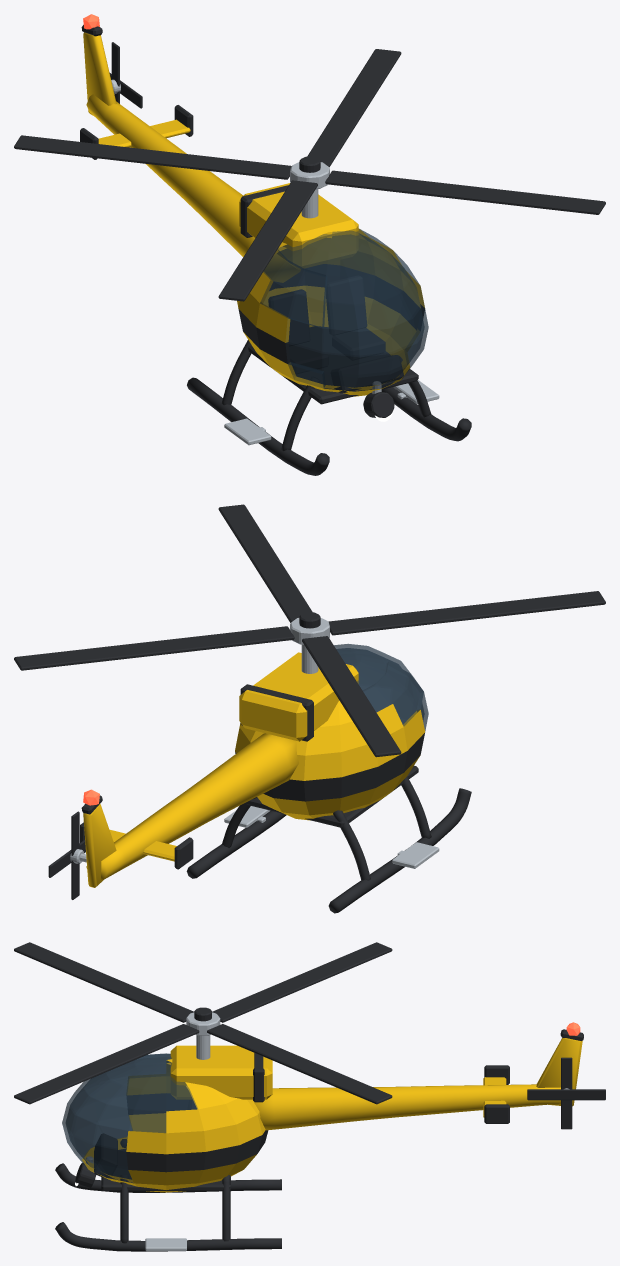
Rendered from yellow-rescue-helicopter.glb.
3 renders of one model, top to bottom at view 1: azimuth 30°, elevation 25°; view 2: azimuth 150°, elevation 25°; view 3: azimuth 270°, elevation 25°, orthographic. The views are drawn at different scales.
Visible parts, largest first — view 1: Fuselage, Door, TailBoom, EngineHousing, MainBlade_3, MainBlade_1, MainBlade_2, MainBlade_0, CabinFloor, Seat_Copilot_Back, Skid_L, Console (+11 smaller); view 2: Fuselage, TailBoom, EngineHousing, Door, MainBlade_0, MainBlade_2, MainBlade_1, MainBlade_3, Skid_L, TailFin, Skid_R, CabinFloor (+7 smaller); view 3: Fuselage, TailBoom, EngineHousing, Door, MainBlade_0, MainBlade_3, MainBlade_1, MainBlade_2, Skid_R, TailFin, Skid_L, CabinFloor (+9 smaller).
Part boxes in pixels (<box>): Fuselage: <box>237,228,428,396</box>; Door: <box>238,249,326,388</box>; TailBoom: <box>86,94,300,282</box>; EngineHousing: <box>239,183,358,269</box>; MainBlade_3: <box>325,170,605,214</box>; MainBlade_1: <box>14,135,291,179</box>; MainBlade_2: <box>218,180,317,301</box>; MainBlade_0: <box>307,49,401,167</box>; CabinFloor: <box>248,326,418,404</box>; Seat_Copilot_Back: <box>326,275,366,335</box>; Skid_L: <box>187,377,329,475</box>; Console: <box>331,355,403,393</box>; Fuselage: <box>235,643,428,820</box>; TailBoom: <box>86,733,298,879</box>; EngineHousing: <box>239,652,358,741</box>; Door: <box>363,661,425,803</box>; MainBlade_0: <box>14,626,294,670</box>; MainBlade_2: <box>328,591,605,635</box>; MainBlade_1: <box>302,636,401,757</box>; MainBlade_3: <box>218,504,312,622</box>; Skid_L: <box>328,788,471,913</box>; TailFin: <box>83,804,116,887</box>; Skid_R: <box>186,811,286,878</box>; CabinFloor: <box>245,765,418,827</box>; Fuselage: <box>62,1053,268,1192</box>; TailBoom: <box>253,1084,560,1130</box>; EngineHousing: <box>170,1045,272,1099</box>; Door: <box>98,1054,188,1138</box>; MainBlade_0: <box>207,1024,392,1104</box>; MainBlade_3: <box>14,1024,199,1104</box>; MainBlade_1: <box>212,942,392,1022</box>; MainBlade_2: <box>14,942,193,1022</box>; Skid_R: <box>55,1222,281,1251</box>; TailFin: <box>536,1038,582,1106</box>; Skid_L: <box>55,1163,281,1192</box>; CabinFloor: <box>101,1149,230,1190</box>.
Bounding box in the file's own units: 16.35 × 10.08 × 25.57.
